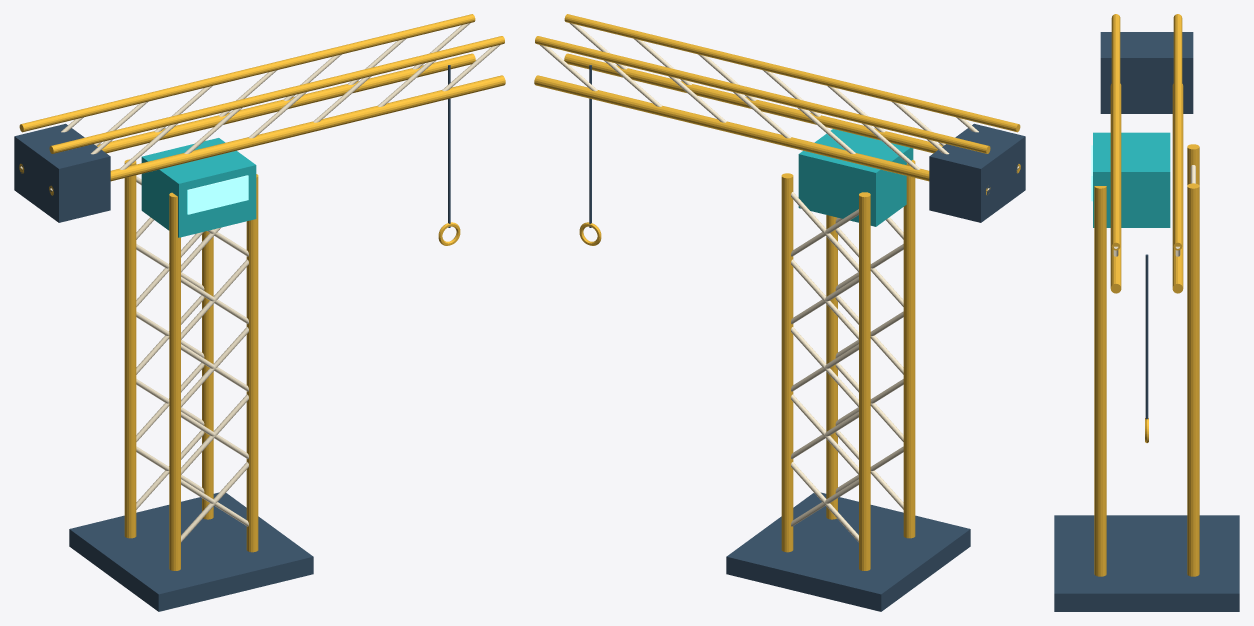
Rendered from crane.glb.
3 views of the same model, side by side, from view 1: azimuth 30°, elevation 25°; view 2: azimuth 150°, elevation 25°; view 3: azimuth 270°, elevation 25° (orthographic). The views are drawn at different scales.
Visible parts, largest first — view 1: crane_marigold, crane_midnight steel, crane_warm ivory, crane_lagoon turquoise, crane_luminous mint; view 2: crane_marigold, crane_midnight steel, crane_warm ivory, crane_lagoon turquoise; view 3: crane_midnight steel, crane_marigold, crane_lagoon turquoise.
Boxes of the visible parts, x1,y1,x2,y2 form: crane_marigold: (19, 14, 505, 570); crane_midnight steel: (14, 65, 450, 611); crane_warm ivory: (20, 23, 500, 542); crane_lagoon turquoise: (141, 138, 256, 237); crane_luminous mint: (187, 175, 248, 214); crane_marigold: (534, 14, 1020, 570); crane_midnight steel: (589, 65, 1025, 611); crane_warm ivory: (539, 23, 1019, 542); crane_lagoon turquoise: (798, 129, 913, 226); crane_midnight steel: (1054, 32, 1239, 611); crane_marigold: (1094, 14, 1199, 576); crane_lagoon turquoise: (1093, 132, 1170, 227).
Size of the model in its own units: 35.15 by 34.28 by 12.
